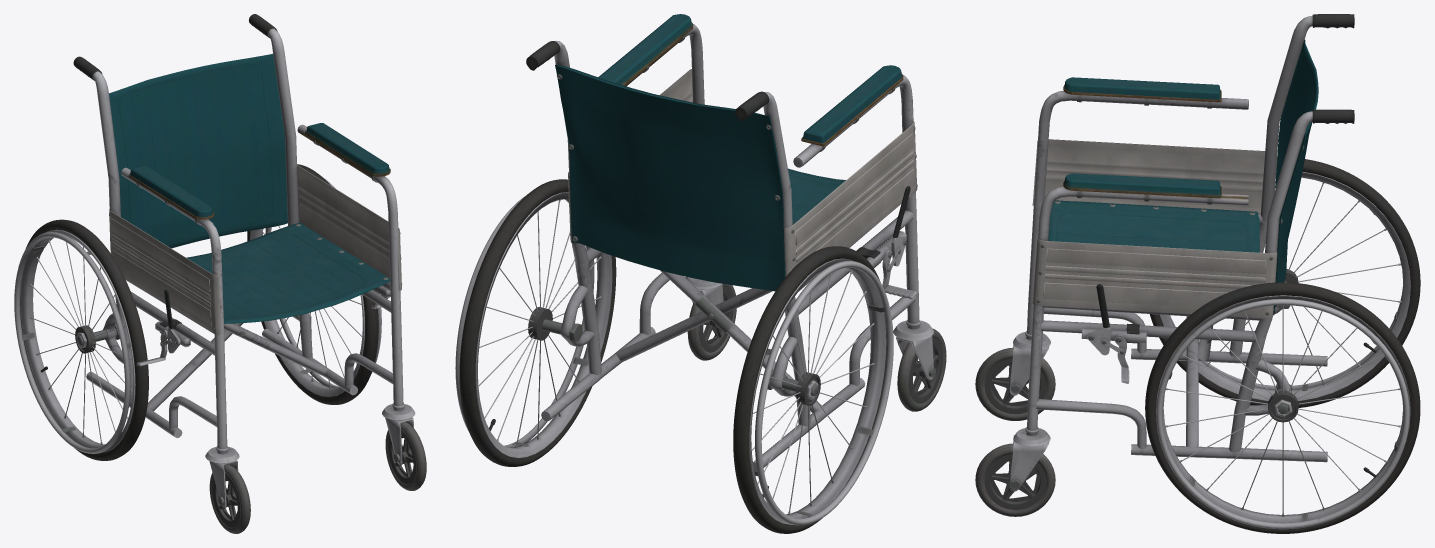
The model's file is wheelchair_01.glb.
3 views of the same model, side by side, from view 1: azimuth 30°, elevation 25°; view 2: azimuth 150°, elevation 25°; view 3: azimuth 270°, elevation 25° (orthographic). The views are drawn at different scales.
Visible parts, largest first — view 1: wheelchair_01; view 2: wheelchair_01; view 3: wheelchair_01.
Part boxes in pixels (x1,y1,x2,y2): wheelchair_01: [14, 14, 426, 533]; wheelchair_01: [455, 14, 946, 533]; wheelchair_01: [975, 14, 1420, 533].
Size of the model in its own units: 0.8241 by 1.1 by 1.09.
Materials: 1 (1 with a texture image).
